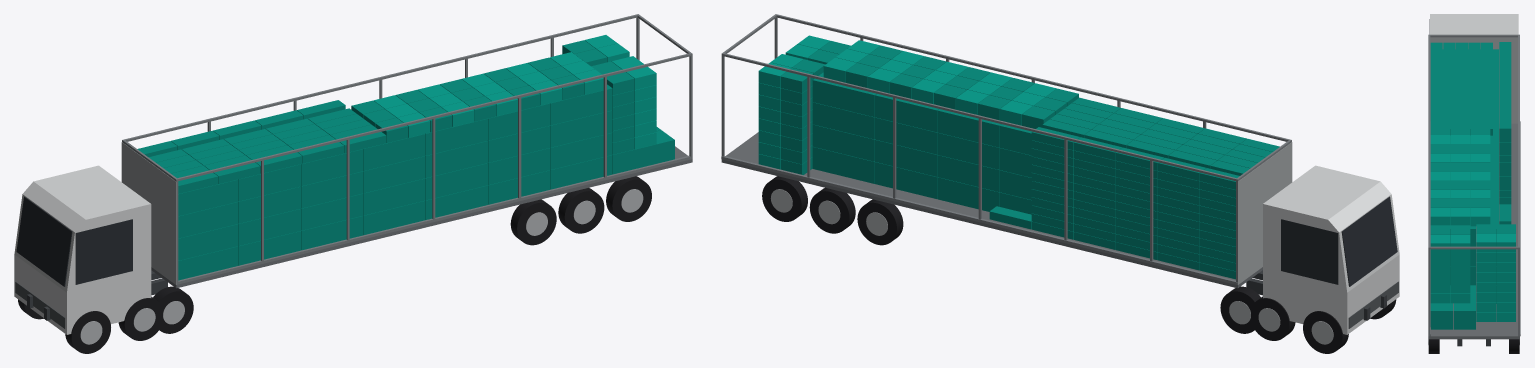
The model's file is carreta-TR06.glb.
3 renders of one model, left to right at view 1: azimuth 30°, elevation 25°; view 2: azimuth 150°, elevation 25°; view 3: azimuth 270°, elevation 25°, orthographic. The views are drawn at different scales.
Visible parts, largest first — view 1: cabine, frente, janela, part27, part19, piso, part18, part20, part95, part98, part101, part140 (+37 smaller); view 2: cabine, piso, frente, janela, part27, part21, part20, part18, part139, part115, part127, part133 (+34 smaller); view 3: piso, cabine, frente, part141, part18, part140, part20, part255, part256, part257, part310, part311 (+116 smaller).
Part boxes in pixels (x1=…): cabine: x1=14, y1=165, x2=151, y2=334; frente: x1=121, y1=142, x2=176, y2=284; janela: x1=75, y1=219, x2=132, y2=284; part27: x1=16, y1=196, x2=72, y2=286; part19: x1=176, y1=156, x2=691, y2=284; piso: x1=151, y1=146, x2=692, y2=288; part18: x1=175, y1=53, x2=692, y2=181; part20: x1=122, y1=14, x2=639, y2=142; part95: x1=363, y1=178, x2=425, y2=215; part98: x1=363, y1=156, x2=425, y2=193; part101: x1=363, y1=134, x2=425, y2=170; part140: x1=612, y1=130, x2=674, y2=174; cabine: x1=1263, y1=165, x2=1399, y2=334; piso: x1=721, y1=132, x2=1262, y2=288; frente: x1=1238, y1=142, x2=1292, y2=284; janela: x1=1281, y1=219, x2=1338, y2=284; part27: x1=1341, y1=196, x2=1397, y2=286; part21: x1=721, y1=156, x2=1237, y2=284; part20: x1=721, y1=53, x2=1238, y2=181; part18: x1=775, y1=14, x2=1290, y2=141; part139: x1=812, y1=72, x2=876, y2=116; part115: x1=937, y1=109, x2=1001, y2=147; part127: x1=875, y1=94, x2=938, y2=132; part133: x1=812, y1=124, x2=874, y2=161; piso: x1=1428, y1=123, x2=1519, y2=339; cabine: x1=1430, y1=14, x2=1518, y2=34; frente: x1=1430, y1=37, x2=1517, y2=123; part141: x1=1453, y1=285, x2=1475, y2=329; part18: x1=1428, y1=34, x2=1430, y2=248; part140: x1=1430, y1=286, x2=1452, y2=329; part20: x1=1518, y1=34, x2=1519, y2=249; part255: x1=1430, y1=207, x2=1450, y2=225; part256: x1=1450, y1=207, x2=1470, y2=225; part257: x1=1470, y1=207, x2=1490, y2=226; part310: x1=1430, y1=234, x2=1450, y2=253; part311: x1=1450, y1=234, x2=1470, y2=253.
Size of the model in its own units: 17.14 by 3.99 by 2.58.
